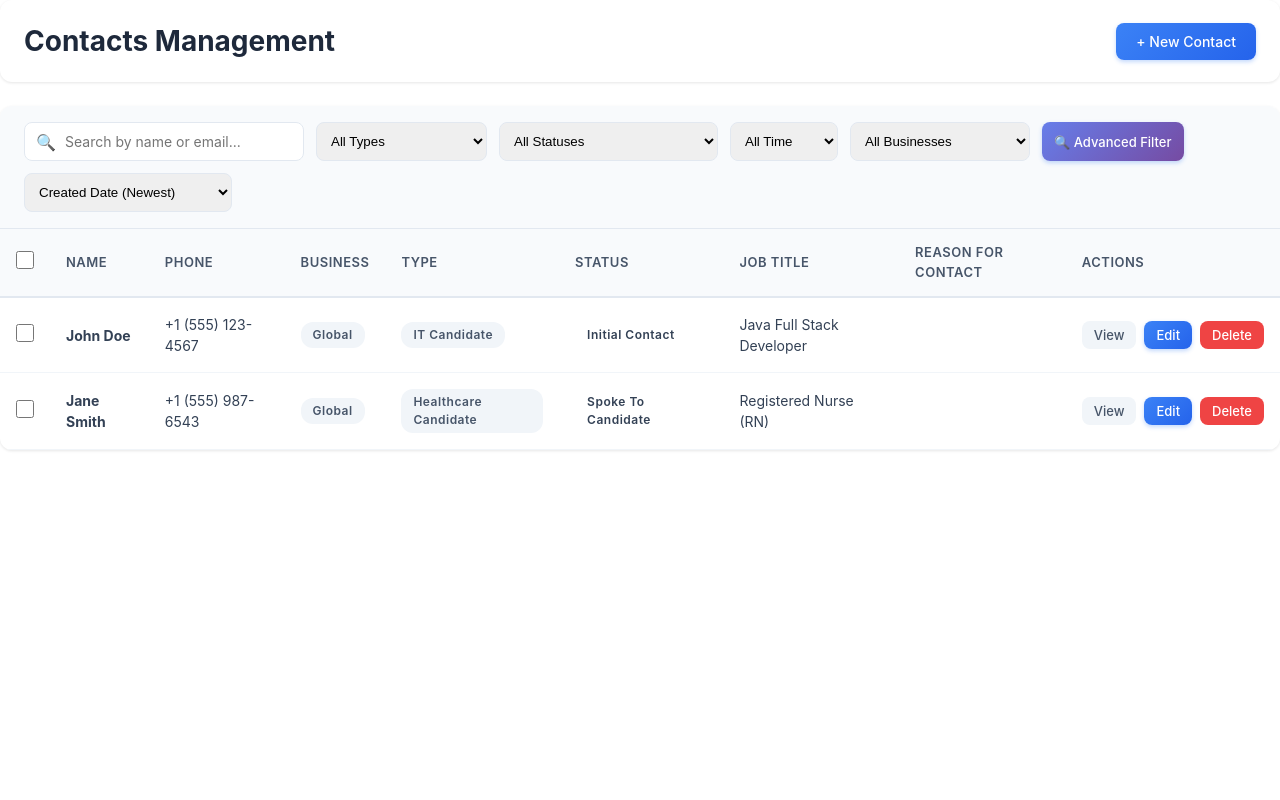
Test: ContactsManager Search and Filter › should show Advanced Filter Builder inline when button is clicked
The image size is (1280, 800).
Expected: the text "Advanced Filter Builder" is not shown
Note: Click Advanced Filter button
What coordinates should you click on to do the following:
click the button "🔍 Advanced Filter"
I would click on:
 (1113, 142)
Its box is [1042, 122, 1184, 161].
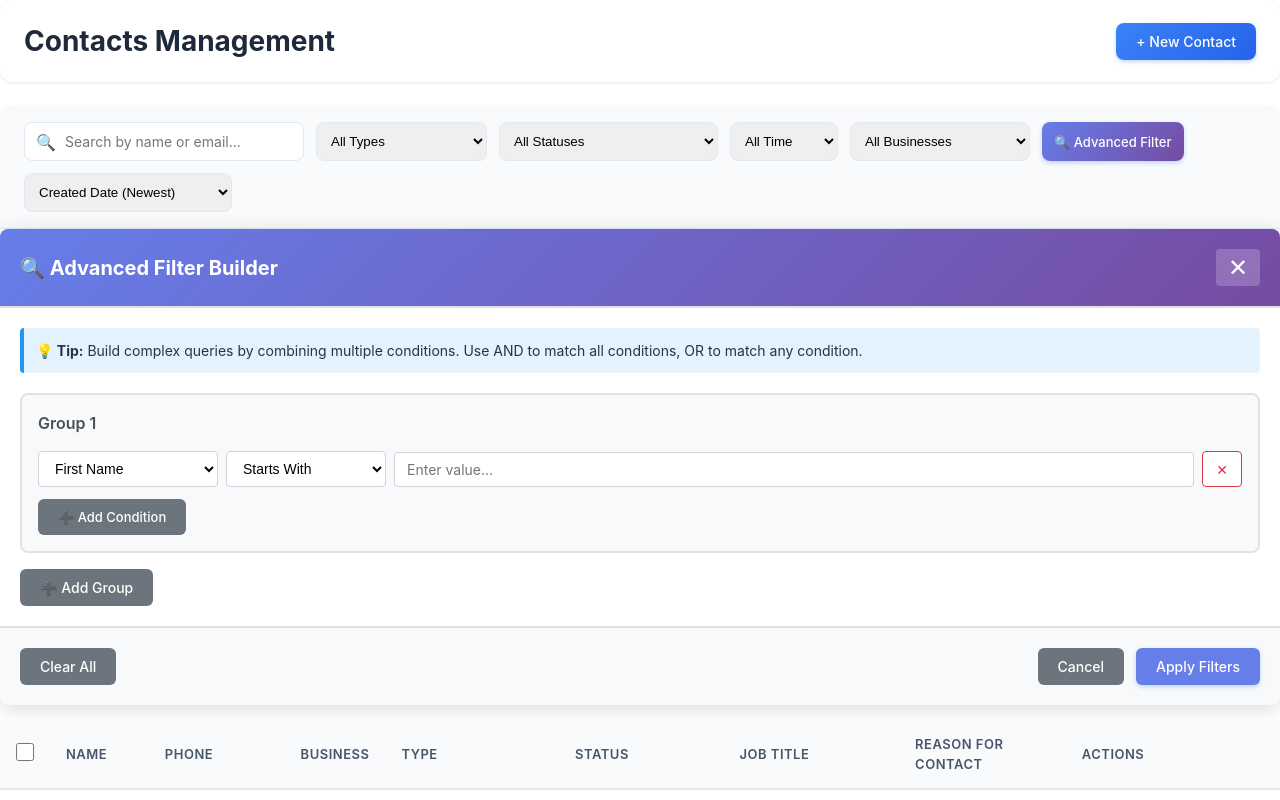
Expected: the heading "🔍 Advanced Filter Builder" is shown, [20, 252, 278, 282]
Expected: the text "Advanced Filter Builder" is shown, [20, 256, 278, 280]
